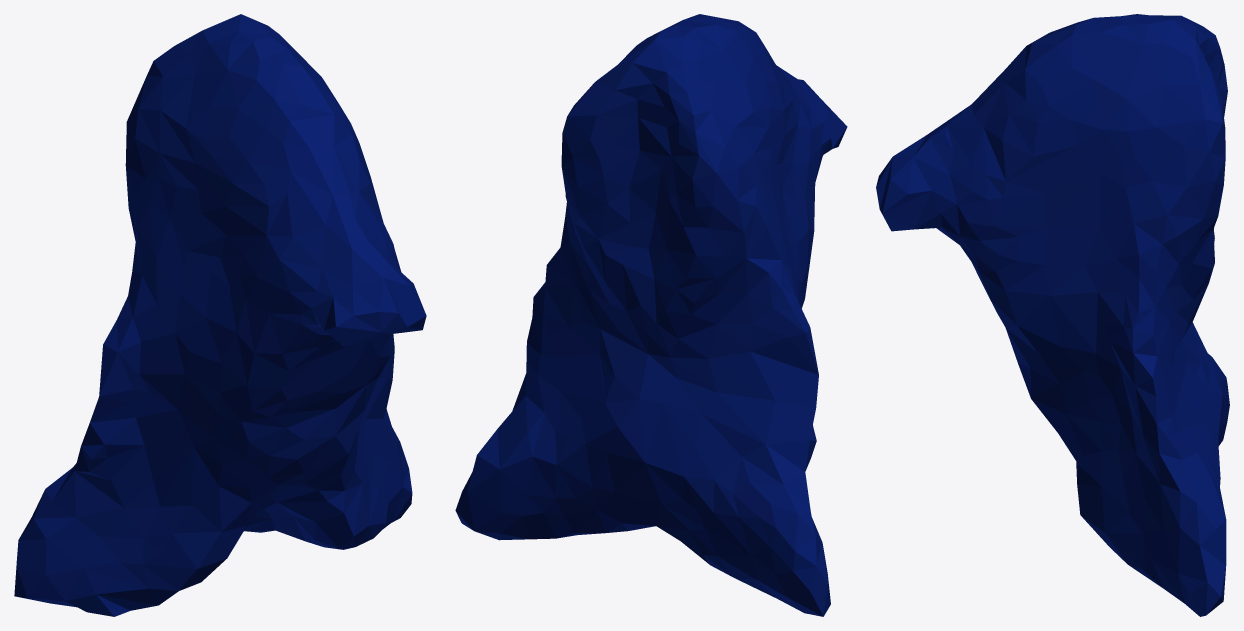
The model's file is 31-Se-septum-('0.0000', '0.1137', '0.4980').obj.
The picture shows the model from 3 angles, left to right: view 1: azimuth 30°, elevation 25°; view 2: azimuth 150°, elevation 25°; view 3: azimuth 270°, elevation 25°; orthographic projection. The views are drawn at different scales.
Bounding box in the file's own units: 58.96 × 80.25 × 49.47.
